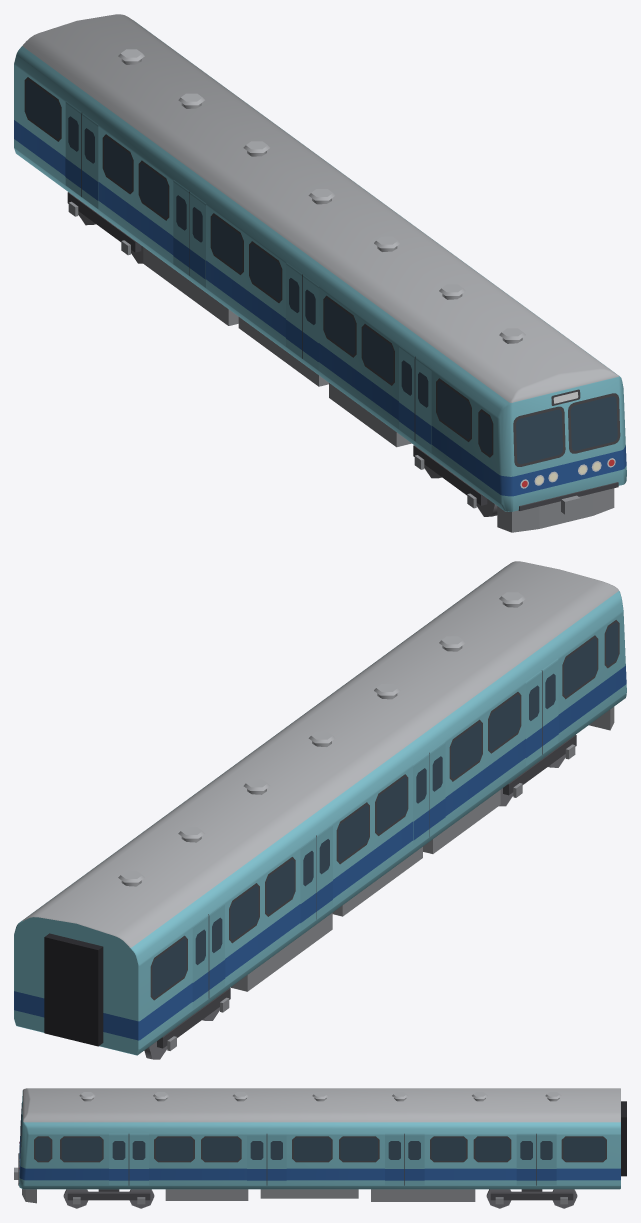
3 views of the same model, one above another, from view 1: azimuth 30°, elevation 25°; view 2: azimuth 150°, elevation 25°; view 3: azimuth 270°, elevation 25° (orthographic). The views are drawn at different scales.
Visible parts, largest first — view 1: 20_3; view 2: 20_3; view 3: 20_3.
Part boxes in pixels (x1,y1,x2,y2): 20_3: [14, 14, 626, 532]; 20_3: [14, 561, 626, 1059]; 20_3: [14, 1088, 626, 1208].
Size of the model in its own units: 2.93 by 3.72 by 20.
